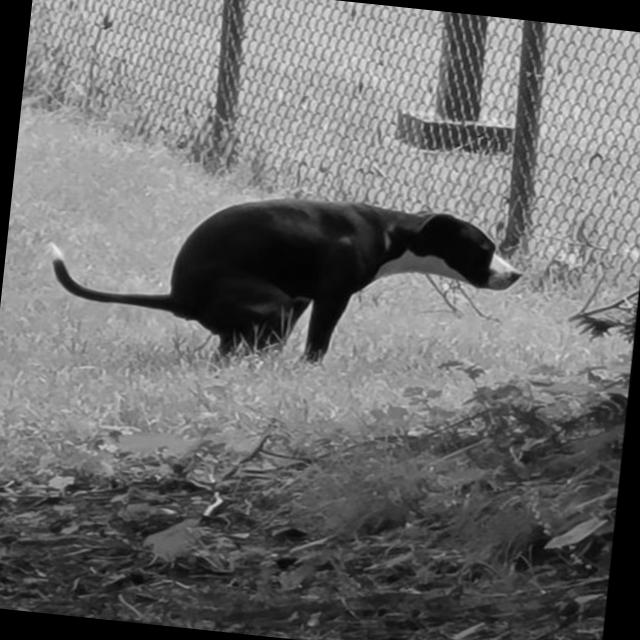squatting: (38, 160, 533, 396)
